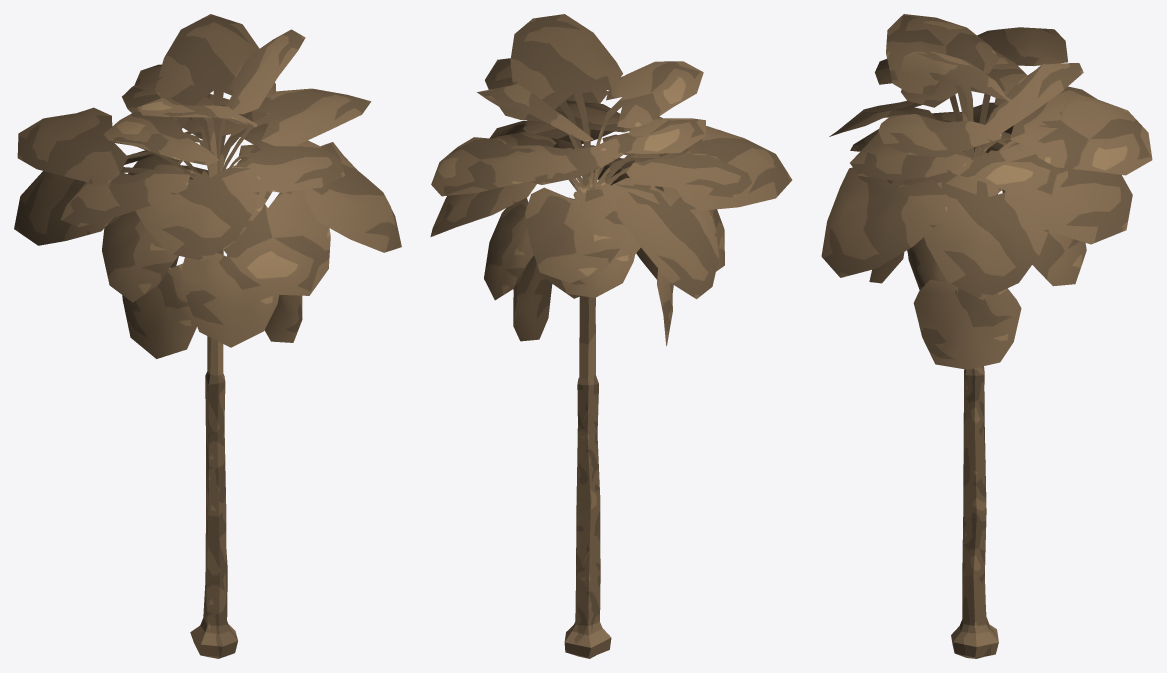
The model's file is SM_Env_Tree_Palm_01.glb.
3 views of the same model, side by side, from view 1: azimuth 30°, elevation 25°; view 2: azimuth 150°, elevation 25°; view 3: azimuth 270°, elevation 25° (orthographic). The views are drawn at different scales.
Parts seen in each view (by area): view 1: SM_Env_Tree_Palm_01_LOD0; view 2: SM_Env_Tree_Palm_01_LOD0; view 3: SM_Env_Tree_Palm_01_LOD0.
Boxes of the visible parts, x1,y1,x2,y2 form: SM_Env_Tree_Palm_01_LOD0: (14,14,401,658); SM_Env_Tree_Palm_01_LOD0: (430,14,792,658); SM_Env_Tree_Palm_01_LOD0: (821,14,1152,658).
Size of what is drawn, in the model's own units: 7.19 by 13.64 by 6.47.
1 material, 1 textured.
